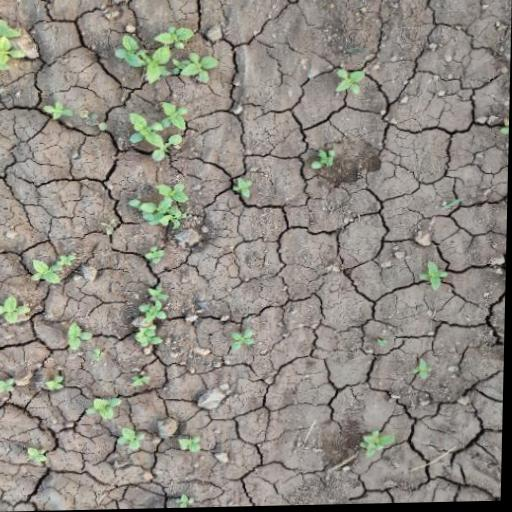crop: (105, 11, 238, 93), (111, 99, 211, 167), (82, 396, 159, 456), (126, 183, 197, 236), (132, 276, 176, 357), (31, 246, 84, 293), (359, 414, 398, 470), (414, 255, 457, 299), (331, 65, 373, 99)
